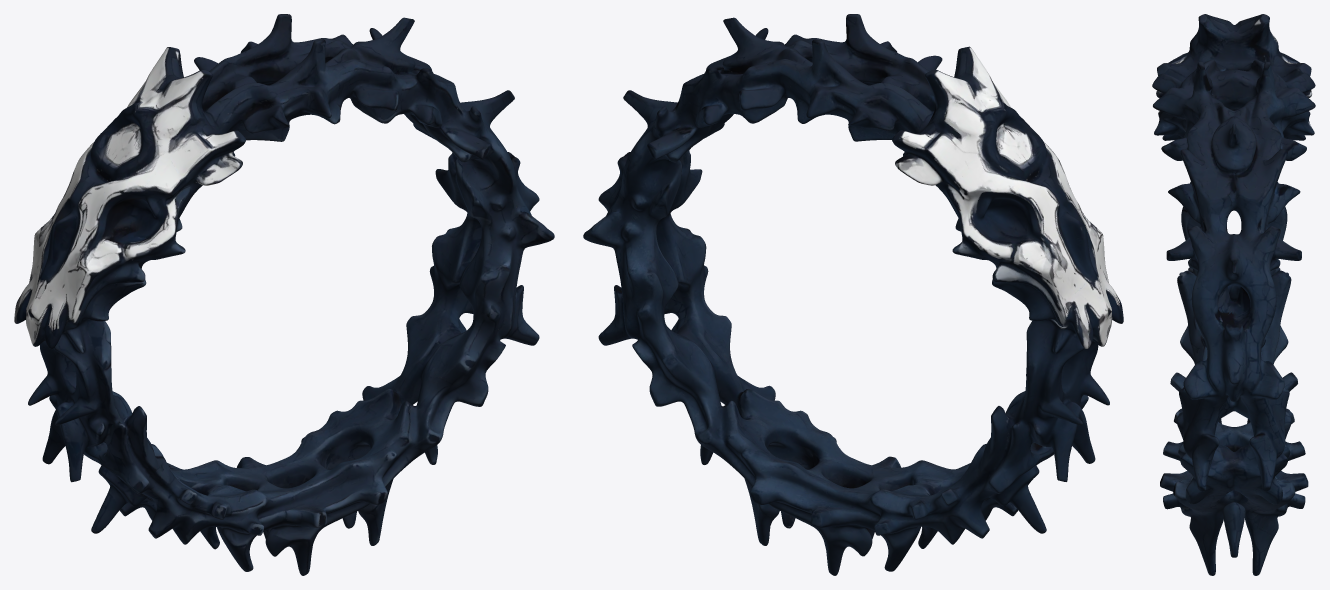
The model's file is noir.glb.
3 renders of one model, left to right at view 1: azimuth 30°, elevation 25°; view 2: azimuth 150°, elevation 25°; view 3: azimuth 270°, elevation 25°, orthographic. The views are drawn at different scales.
Visible parts, largest first — view 1: Mesh_0.003; view 2: Mesh_0.003; view 3: Mesh_0.003.
Boxes of the visible parts, box(x1,y1,x2,y2) form: Mesh_0.003: box(14, 14, 554, 575); Mesh_0.003: box(583, 14, 1123, 575); Mesh_0.003: box(1152, 14, 1315, 575).
Size of the model in its own units: 0.0699 by 0.07 by 0.021.
Materials: 1 (1 with a texture image).
